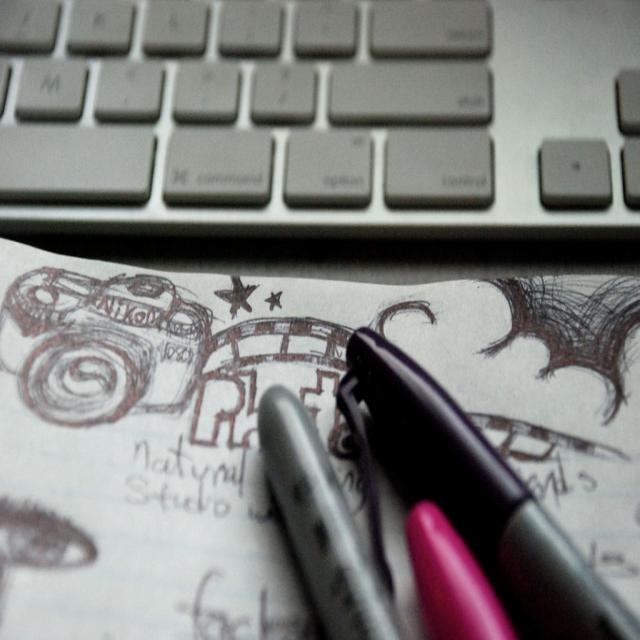pen: (336, 328, 640, 626), (258, 382, 409, 640), (404, 499, 516, 639)
